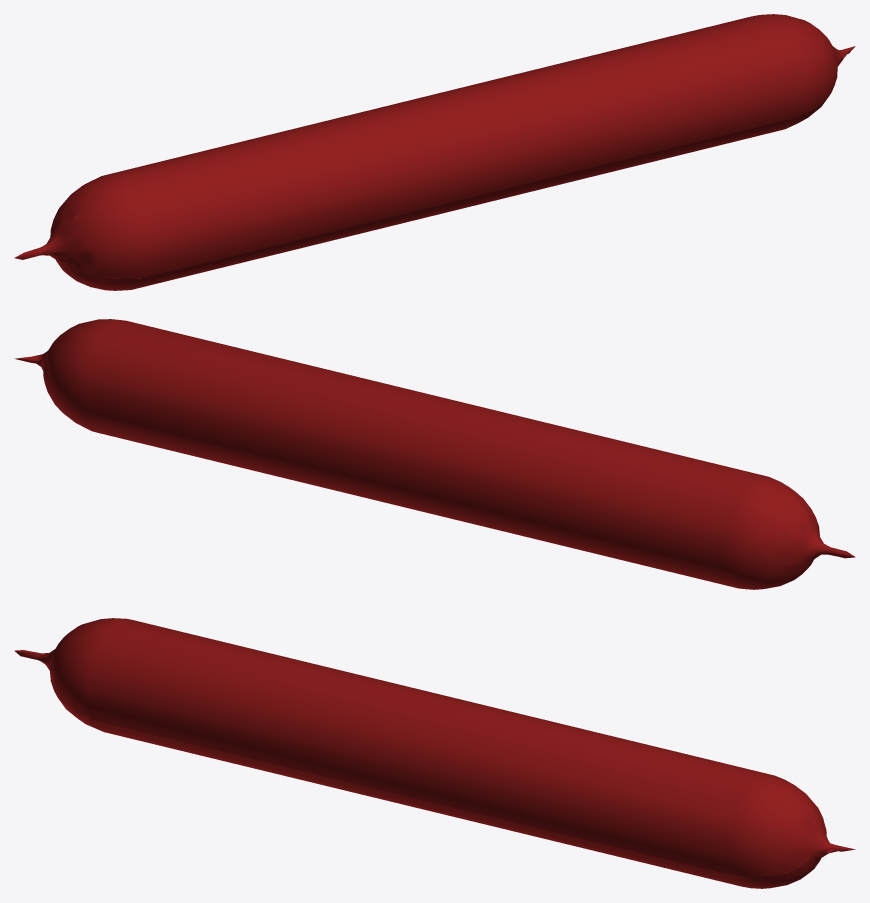
Rendered from item_06_parowka.fbx.
The picture shows the model from 3 angles, top to bottom: view 1: azimuth 30°, elevation 25°; view 2: azimuth 150°, elevation 25°; view 3: azimuth 330°, elevation 25°; orthographic projection.
Parts seen in each view (by area): view 1: Mesh; view 2: Mesh; view 3: Mesh.
Part boxes in pixels (x1,y1,x2,y2): Mesh: (14, 14, 855, 290); Mesh: (14, 319, 855, 589); Mesh: (14, 618, 855, 888).
Size of the model in its own units: 20 by 2.4 by 2.45.
